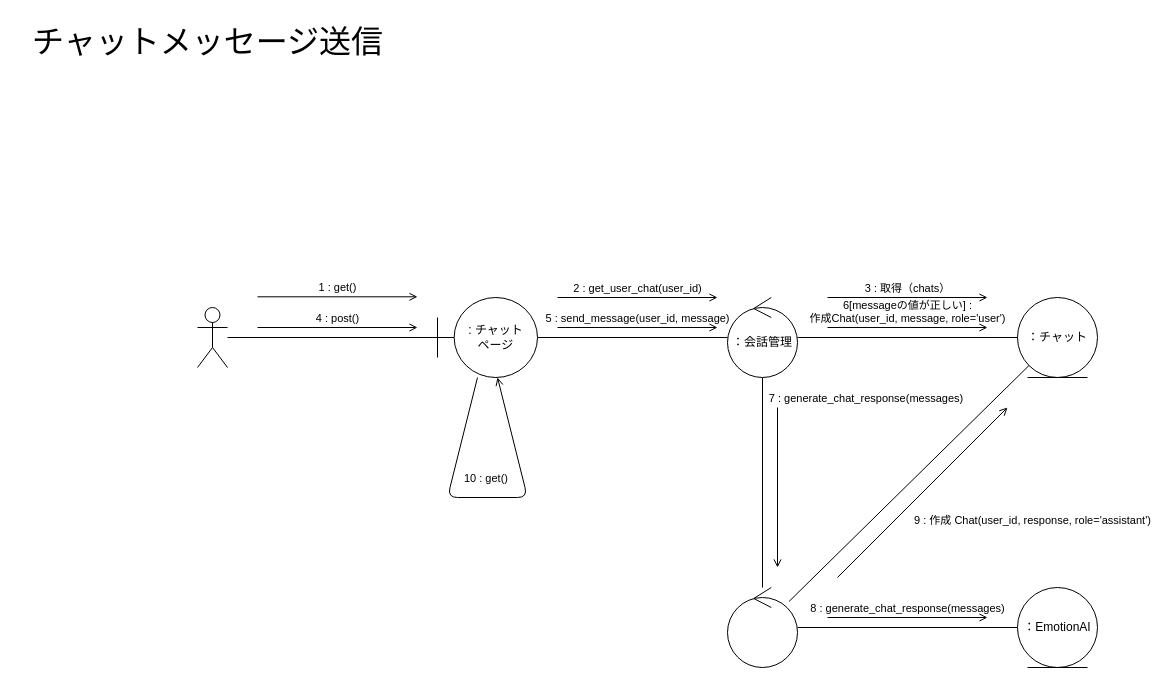
The diagram is 1168 pixels wide and 685 high, and some of its shapes have lost their labels. Here are the shapes that lost their labels. From the top down, the centre of each, then its label:
point 212,337: ：ユーザ
point 762,627: ：分析管理
